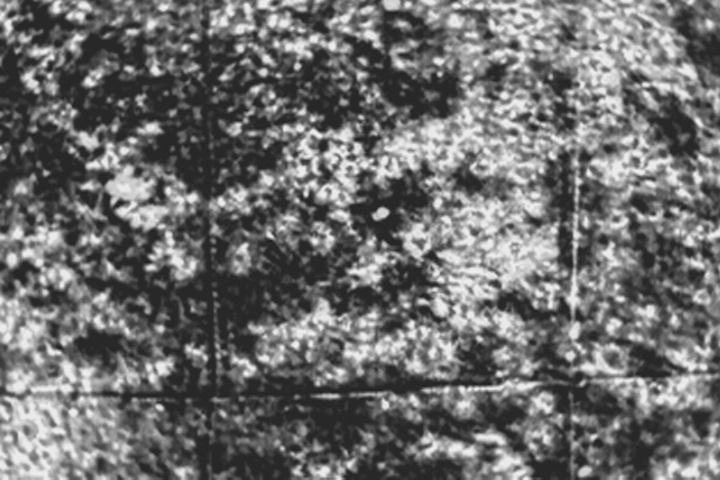landmine: (370, 204, 390, 223)
